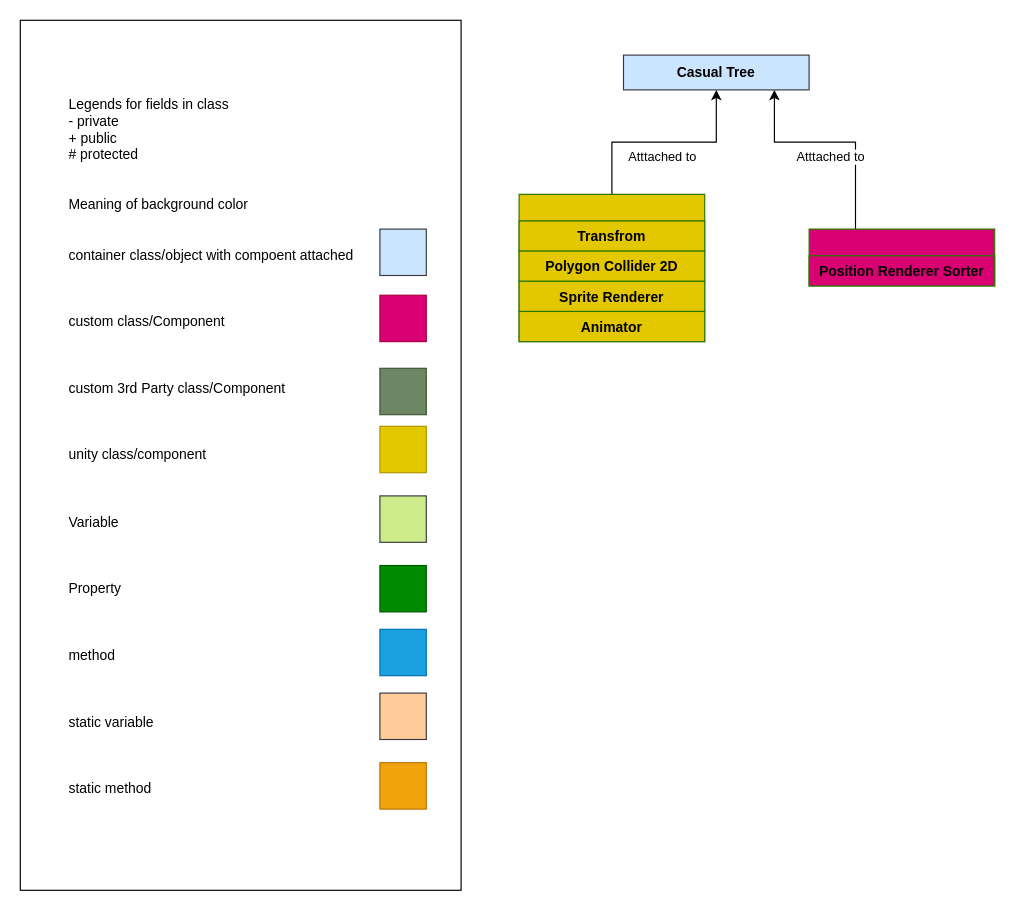
Some shapes in this 1015 by 920 pixel diagram are drawn without their labels. The box of each missing label's shape, as (x1, y1, x2, y2) in pixels:
Custom Components: (808, 228, 995, 286)
Unity Components: (518, 193, 705, 342)
